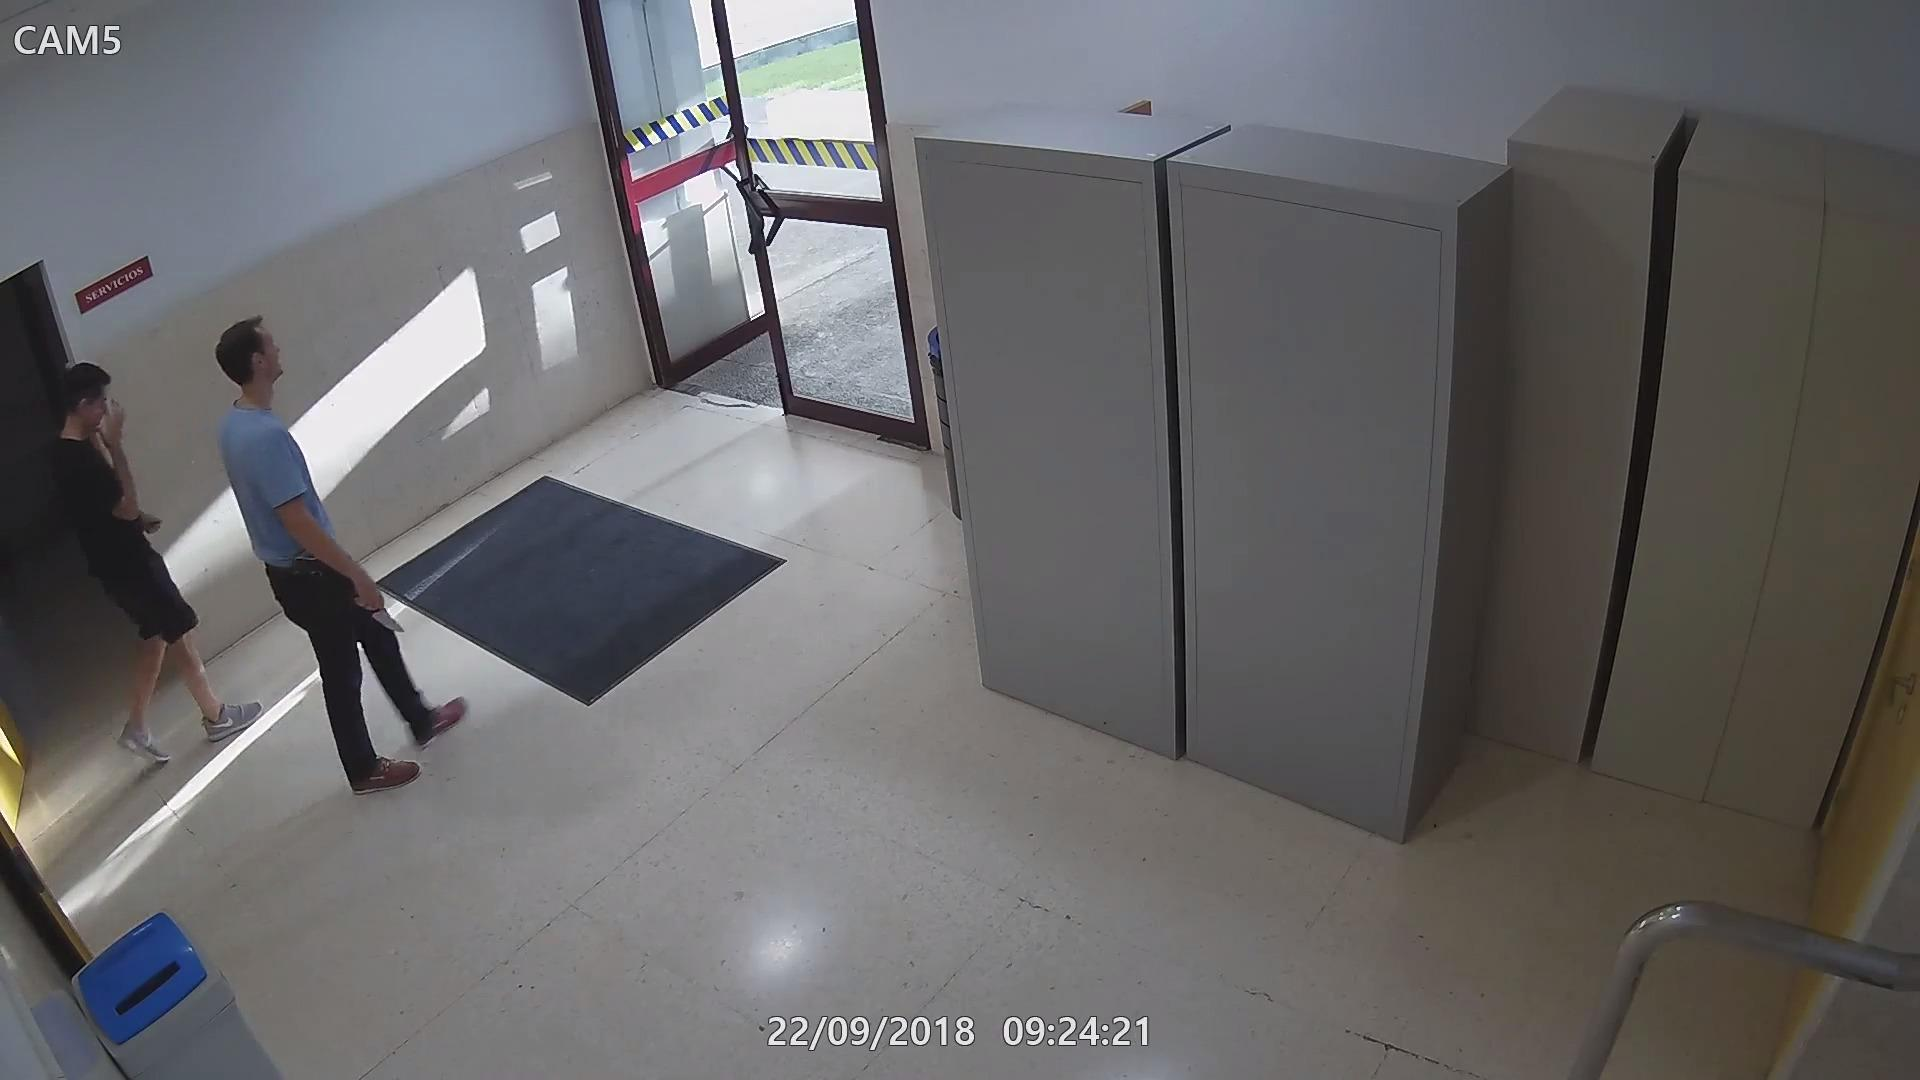Handgun: (290, 553, 330, 579)
